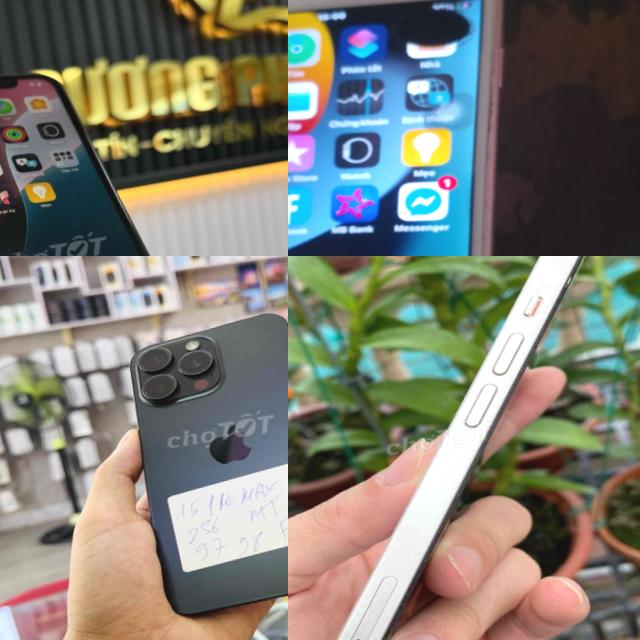screen_defect: (370, 0, 505, 65)
